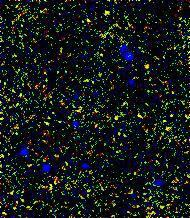star: (132, 53, 162, 83)
